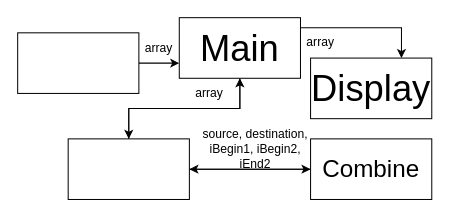
Image size: 449x217. Some labels were removed from this diagram. Each missing label, with the box of its shape:
Input: (17, 32, 139, 93)
Sort: (67, 138, 189, 199)
